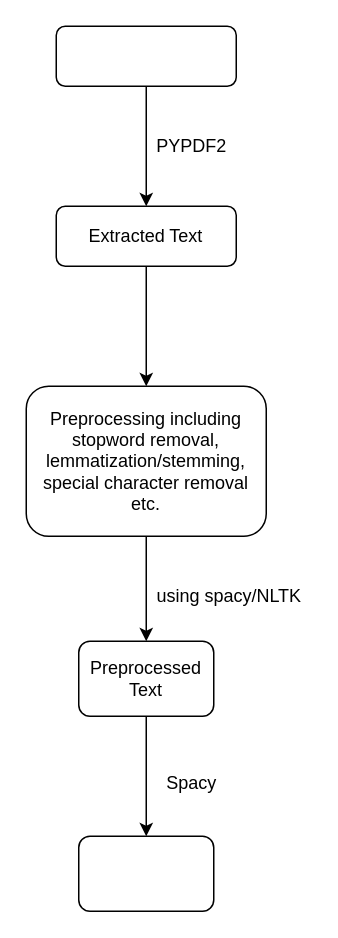
The diagram is 338 pixels wide and 938 high, and some of its shapes have lost their labels. Each missing label, with the centre of its shape:
Categorized Output: [145,873]
PDF Resumes: [145,55]
